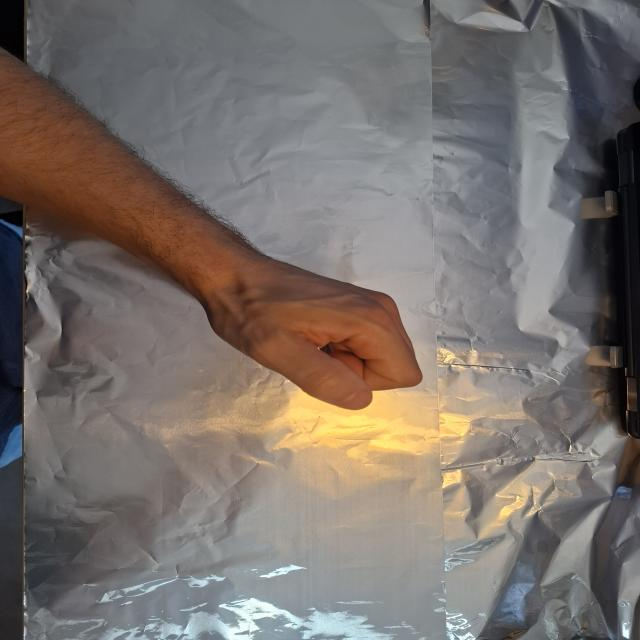glove_off: (196, 254, 428, 413)
